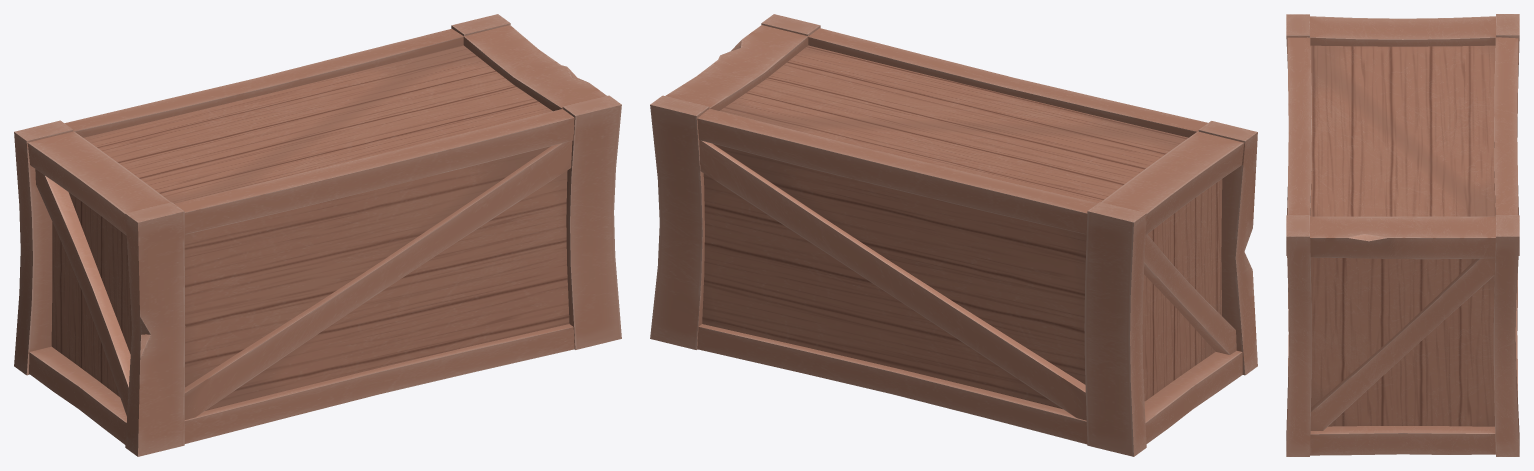
3 renders of one model, left to right at view 1: azimuth 30°, elevation 25°; view 2: azimuth 150°, elevation 25°; view 3: azimuth 270°, elevation 25°, orthographic. The views are drawn at different scales.
Parts seen in each view (by area): view 1: Box_1; view 2: Box_1; view 3: Box_1.
Boxes of the visible parts, box(x1,y1,x2,y2) form: Box_1: box(14, 14, 621, 456); Box_1: box(650, 14, 1257, 456); Box_1: box(1286, 14, 1519, 456).
Size of the model in its own units: 220 by 102 by 97.79.
Materials: 1 (1 with a texture image).
